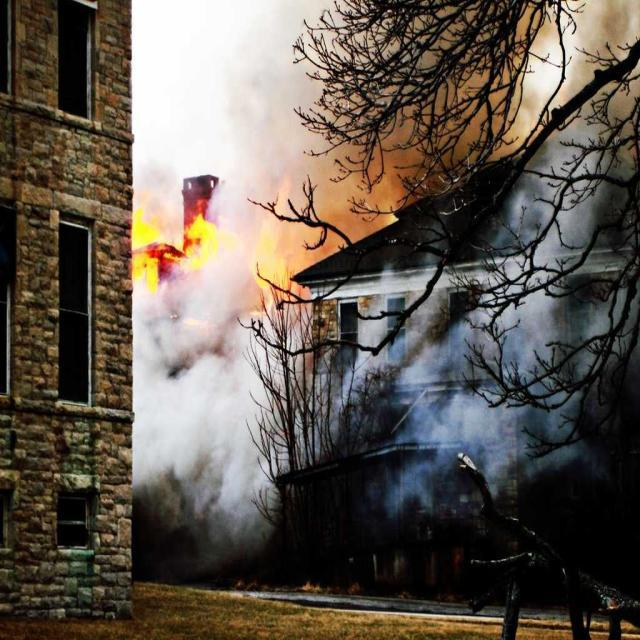Fire: (129, 230, 220, 275), (248, 242, 298, 296)
Smoke: (136, 5, 272, 174), (145, 302, 239, 456)
